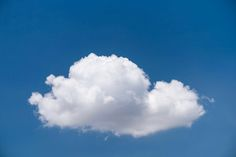Cumulus: (19, 38, 217, 143)
